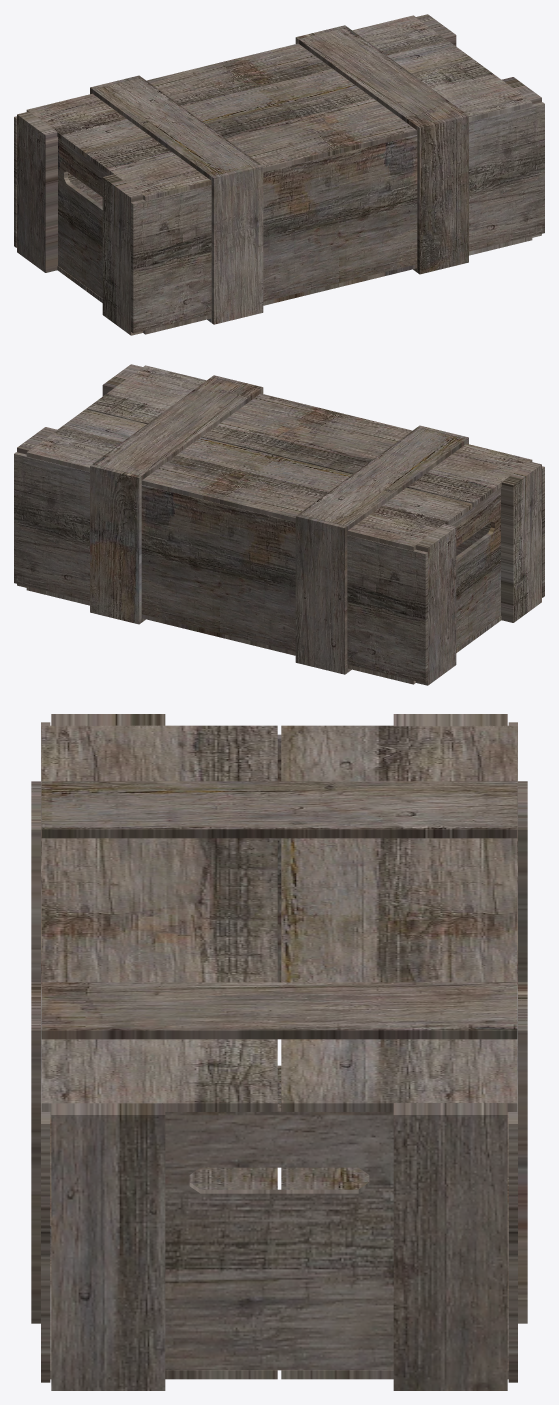
Rendered from Crate_Small.glb.
3 views of the same model, one above another, from view 1: azimuth 30°, elevation 25°; view 2: azimuth 150°, elevation 25°; view 3: azimuth 270°, elevation 25° (orthographic). The views are drawn at different scales.
Parts seen in each view (by area): view 1: Crate-02; view 2: Crate-02; view 3: Crate-02.
Part boxes in pixels (x1=…): Crate-02: x1=14, y1=14, x2=544, y2=335; Crate-02: x1=14, y1=364, x2=544, y2=685; Crate-02: x1=31, y1=714, x2=527, y2=1390.
Size of the model in its own units: 1.09 by 0.37 by 0.5681.
1 material, 1 textured.
